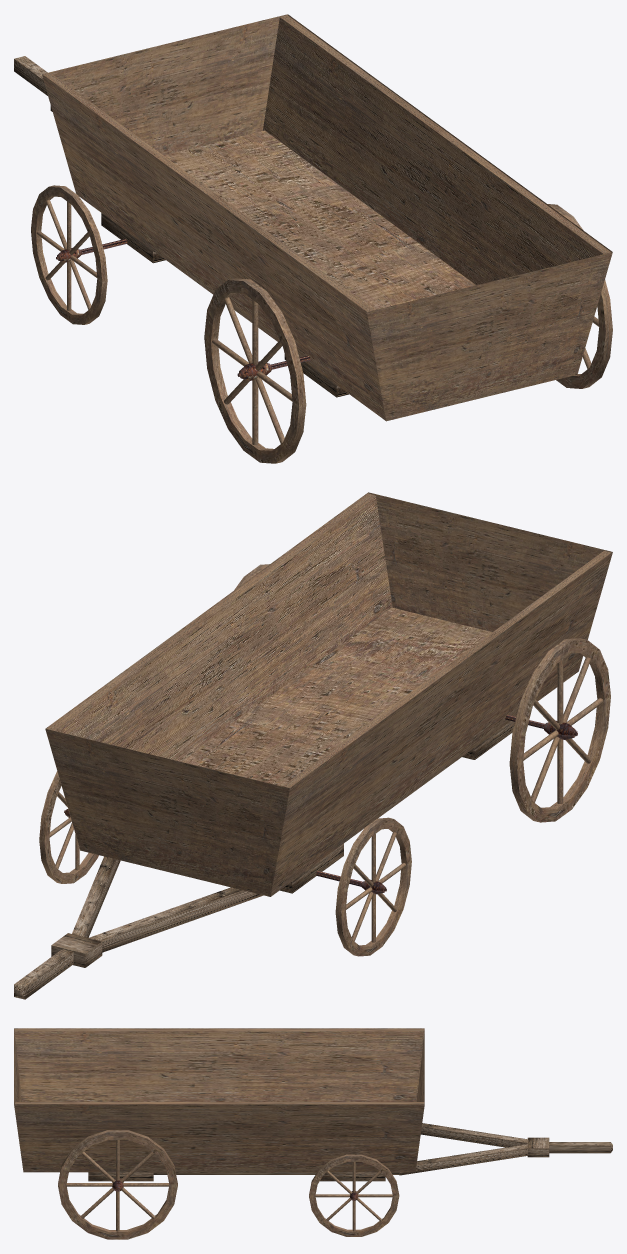
Rendered from Haywagon.FBX.
3 views of the same model, one above another, from view 1: azimuth 30°, elevation 25°; view 2: azimuth 150°, elevation 25°; view 3: azimuth 270°, elevation 25° (orthographic). The views are drawn at different scales.
Visible parts, largest first — view 1: Box005, Box007, Box006, Tube001, Tube008, Box008, Tube016, Cylinder007, Cylinder004, Box004, Box015; view 2: Box005, Box007, Box006, Tube001, Tube008, Box012, Box008, Tube012, Box013, Box015, Box014, Cylinder004 (+2 smaller); view 3: Box008, Box005, Tube016, Tube012, Box013, Box012, Box007, Box015, Box004, Box011, Box009, Box014 (+4 smaller).
Part boxes in pixels (x1,y1,x2,y2): Box005: [42, 14, 612, 421]; Box007: [263, 15, 610, 285]; Box006: [163, 130, 475, 309]; Tube001: [204, 278, 306, 463]; Tube008: [31, 185, 107, 324]; Box008: [43, 73, 374, 311]; Tube016: [547, 204, 612, 388]; Cylinder007: [224, 297, 284, 443]; Cylinder004: [252, 299, 258, 445]; Box004: [101, 213, 165, 263]; Box015: [14, 56, 47, 95]; Box005: [45, 492, 612, 896]; Box007: [47, 493, 392, 761]; Box006: [181, 607, 492, 786]; Tube001: [509, 638, 610, 822]; Tube008: [335, 817, 411, 956]; Box012: [89, 887, 263, 952]; Box008: [282, 550, 611, 788]; Tube012: [39, 771, 98, 883]; Box013: [72, 856, 120, 937]; Box015: [14, 949, 73, 999]; Box014: [51, 933, 102, 967]; Cylinder004: [557, 659, 563, 803]; Box008: [14, 1029, 423, 1101]; Box005: [14, 1028, 424, 1172]; Tube016: [58, 1130, 177, 1239]; Tube012: [309, 1154, 399, 1236]; Box013: [399, 1144, 527, 1175]; Box012: [420, 1123, 527, 1147]; Box007: [15, 1102, 424, 1104]; Box015: [549, 1142, 612, 1153]; Box004: [320, 1172, 385, 1181]; Box011: [88, 1172, 153, 1181]; Box009: [153, 1172, 399, 1174]; Box014: [527, 1137, 549, 1157].
Bounding box in the file's own units: 41.69 × 23.05 × 101.
3 materials, 3 textured.
